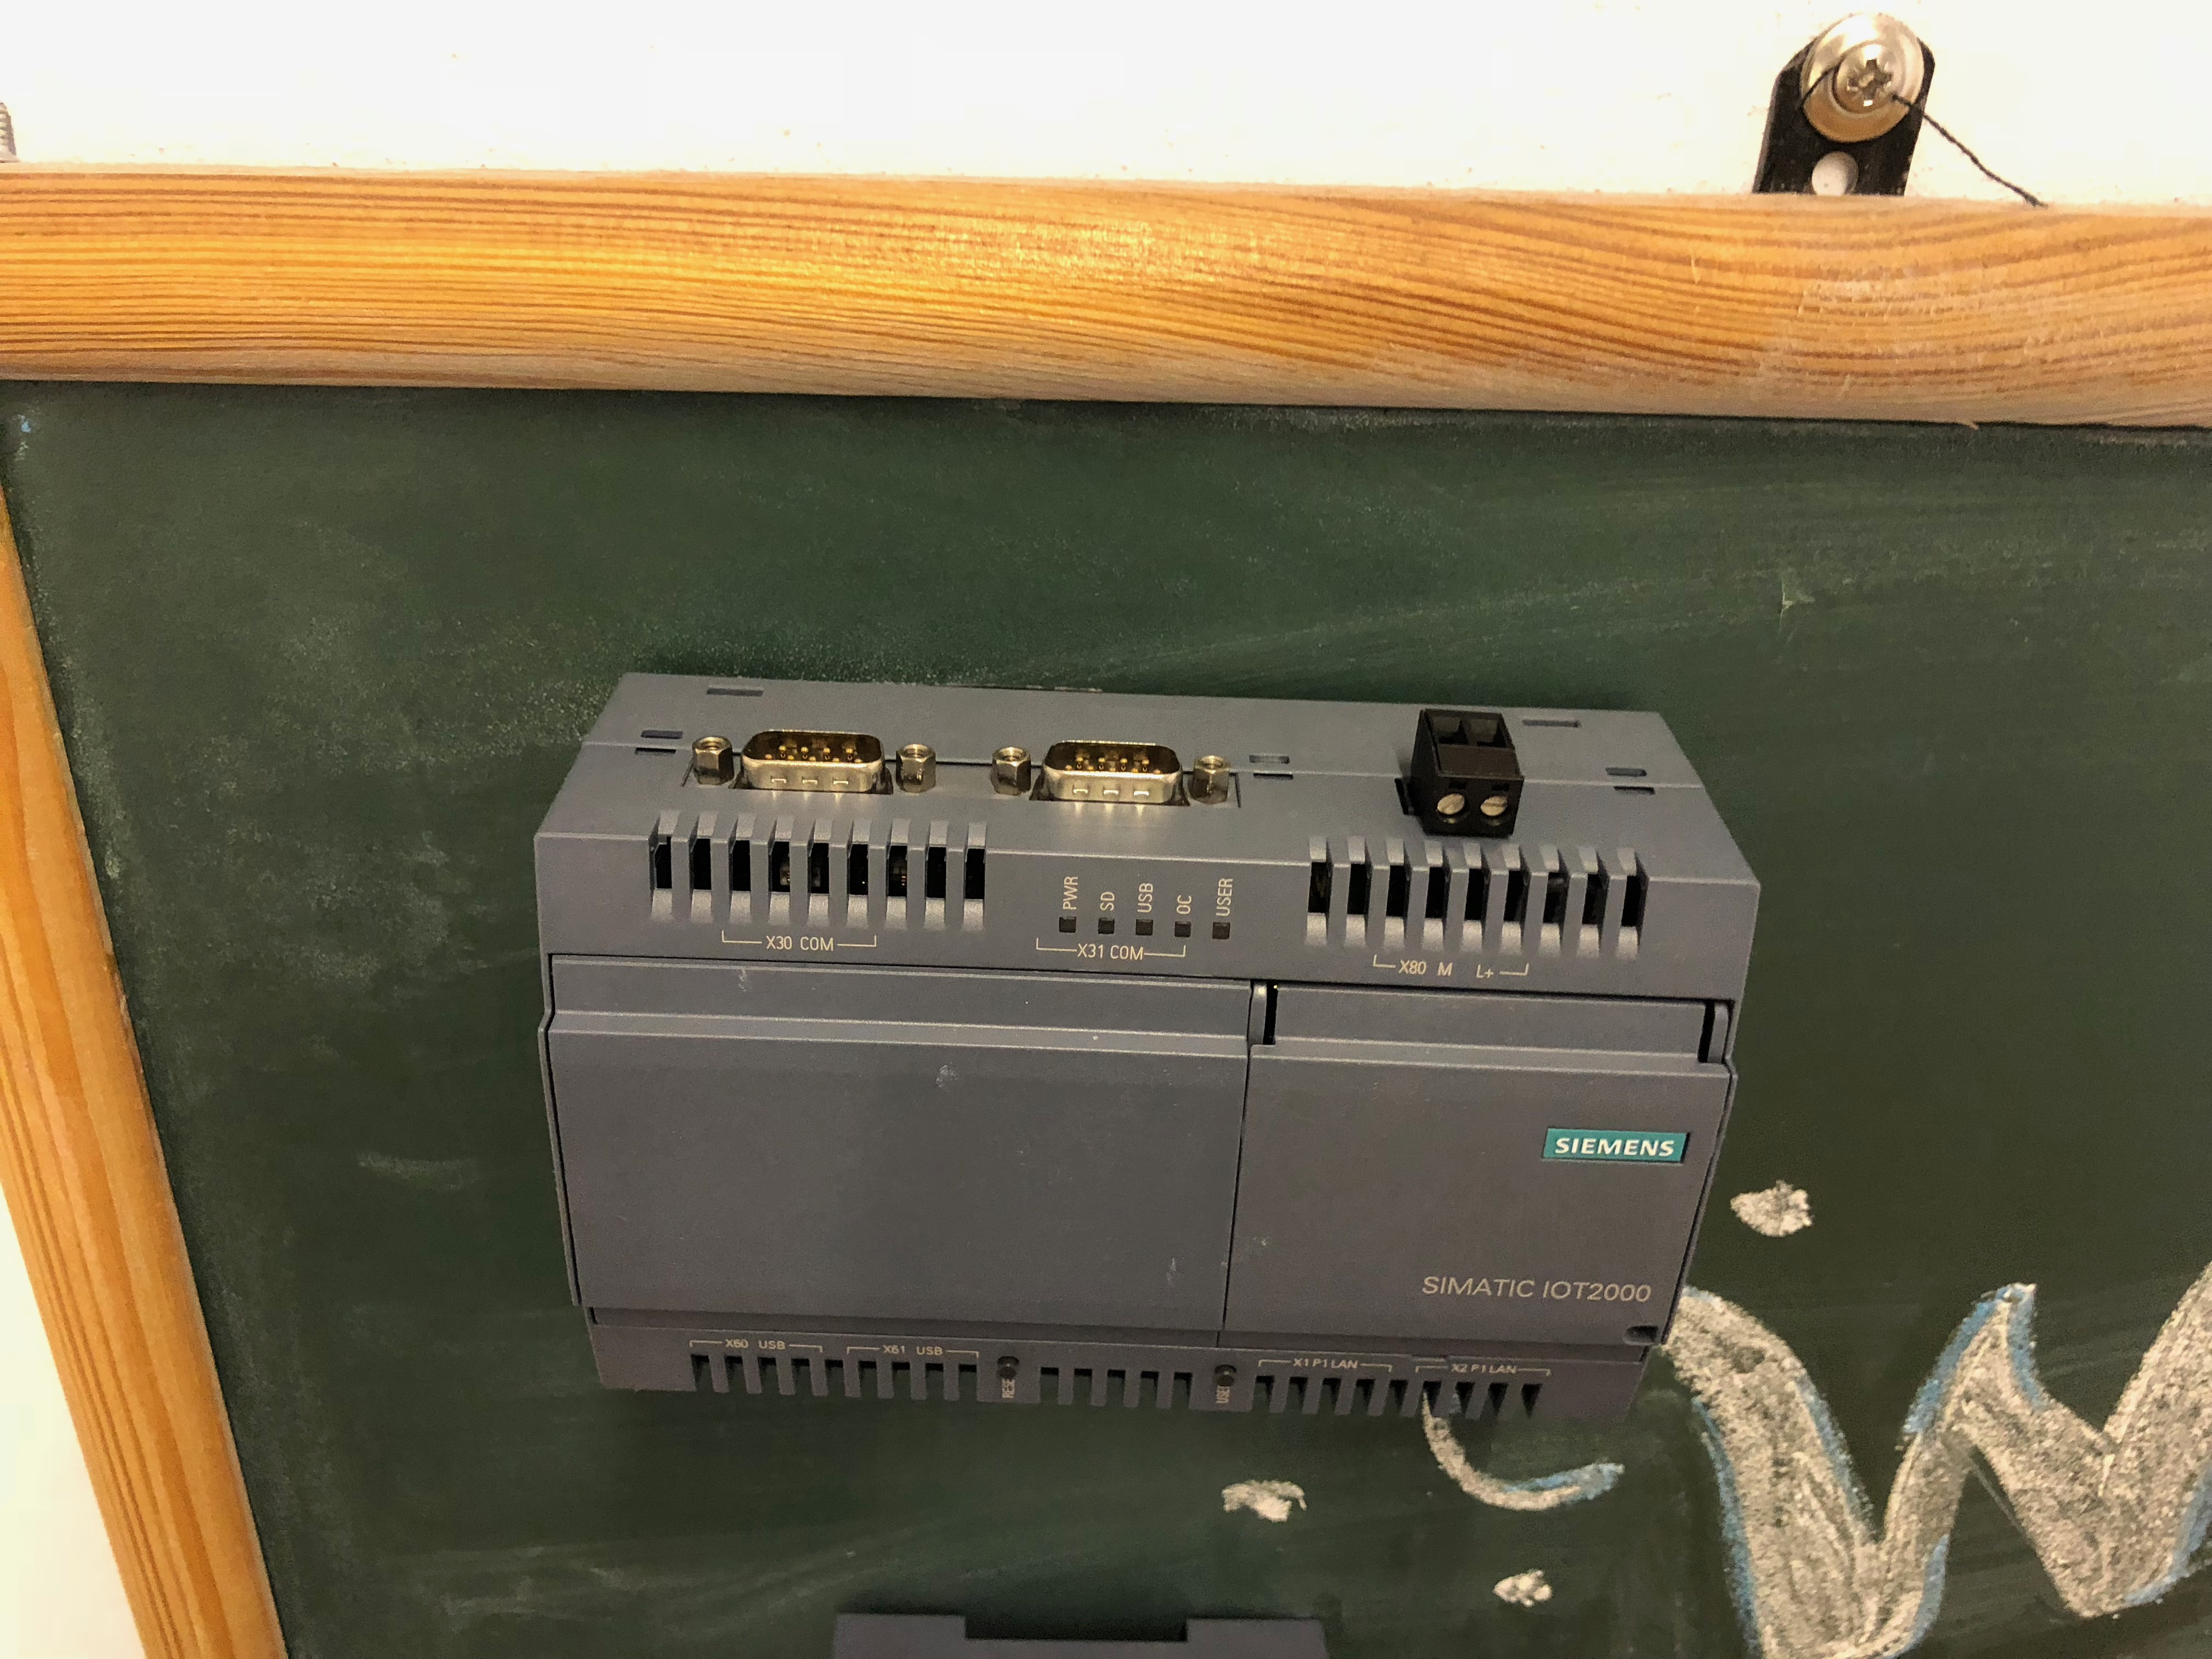device: (533, 671, 1761, 1424)
